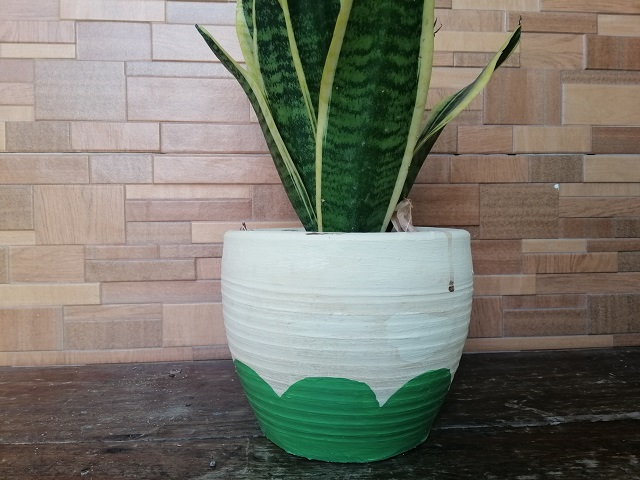plant: (196, 2, 500, 461)
wall: (4, 5, 189, 359), (532, 15, 640, 346)
